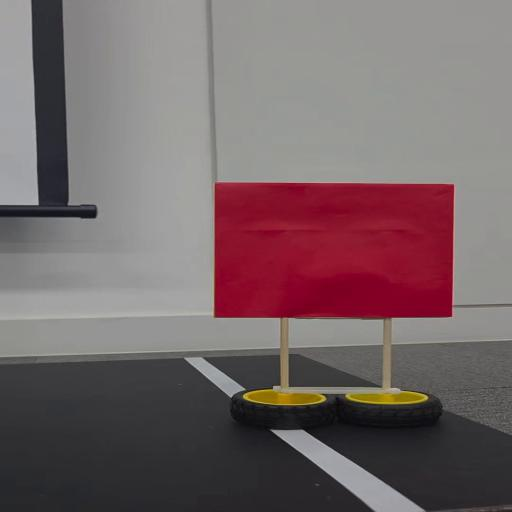Sign_A: (202, 176, 474, 427)
